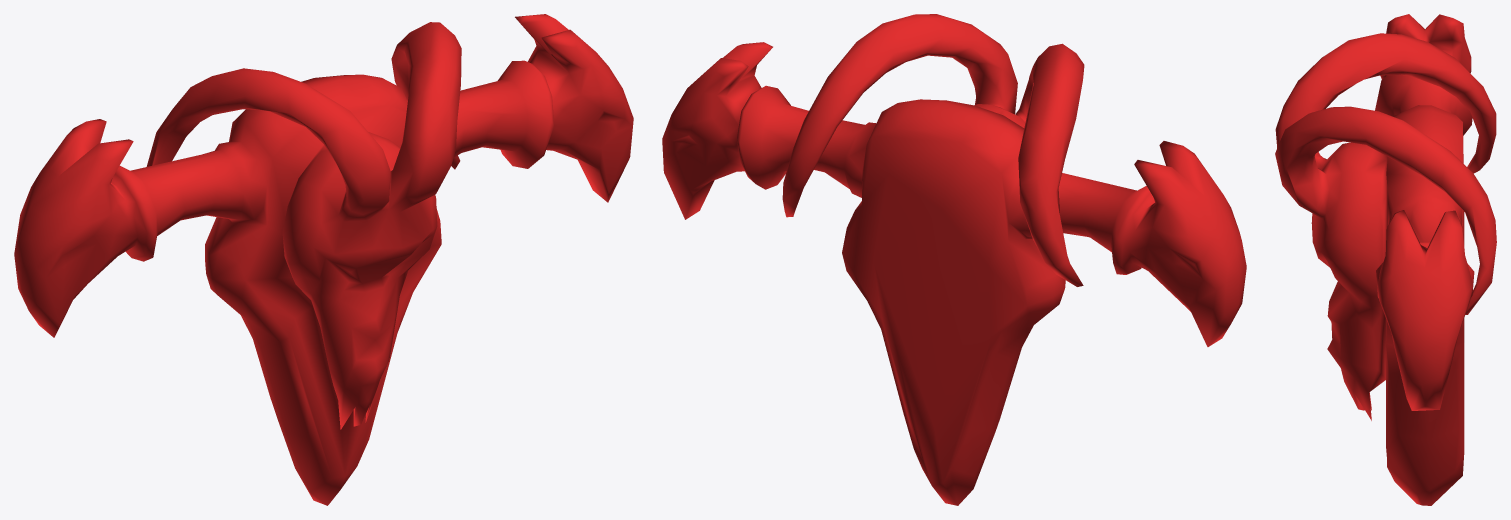
Rendered from SM_SmallOrnament_A_004.FBX.
3 views of the same model, side by side, from view 1: azimuth 30°, elevation 25°; view 2: azimuth 150°, elevation 25°; view 3: azimuth 270°, elevation 25° (orthographic). The views are drawn at different scales.
Visible parts, largest first — view 1: SM_SmallOrnament_A_004; view 2: SM_SmallOrnament_A_004; view 3: SM_SmallOrnament_A_004.
Part boxes in pixels (x1,y1,x2,y2): SM_SmallOrnament_A_004: (14,14,633,505); SM_SmallOrnament_A_004: (662,14,1246,505); SM_SmallOrnament_A_004: (1275,14,1496,505).
Bounding box in the file's own units: 261 × 195 × 90.86.
